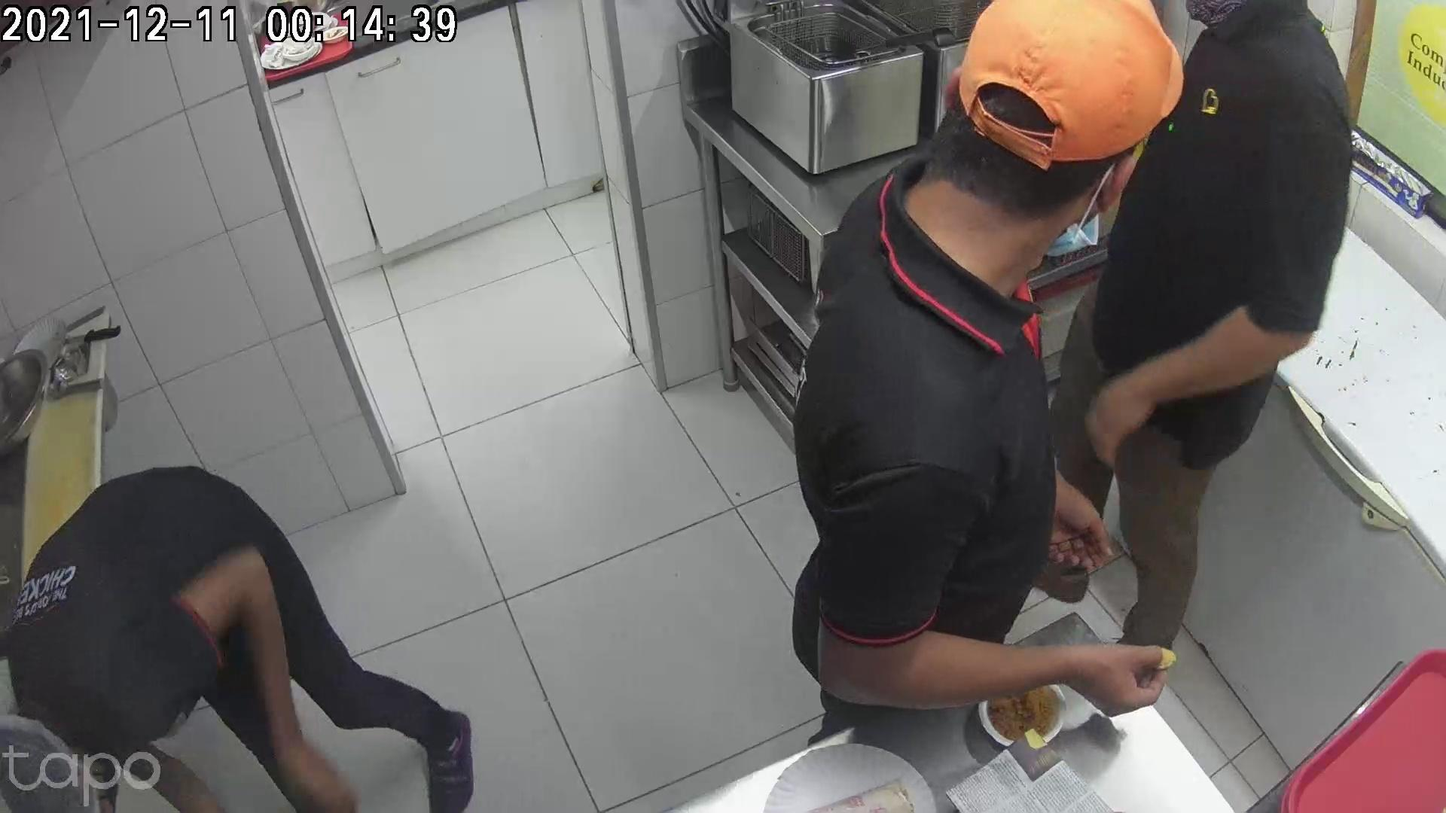no_gloves: (958, 429, 1004, 548)
